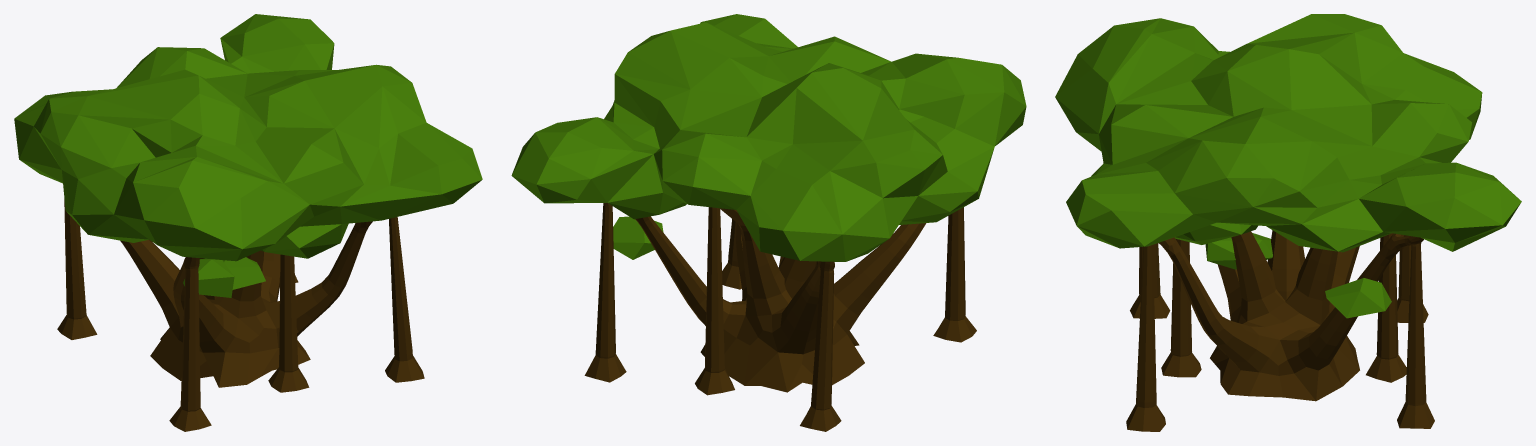
File: BanyanTree_v002.fbx
The picture shows the model from 3 angles, left to right: view 1: azimuth 30°, elevation 25°; view 2: azimuth 150°, elevation 25°; view 3: azimuth 270°, elevation 25°; orthographic projection. The views are drawn at different scales.
Parts seen in each view (by area): view 1: BanyanTree; view 2: BanyanTree; view 3: BanyanTree.
Boxes of the visible parts, x1,y1,x2,y2 form: BanyanTree: [14, 14, 482, 431]; BanyanTree: [511, 14, 1026, 431]; BanyanTree: [1055, 14, 1521, 431].
Bounding box in the file's own units: 1661 × 1300 × 1805.
